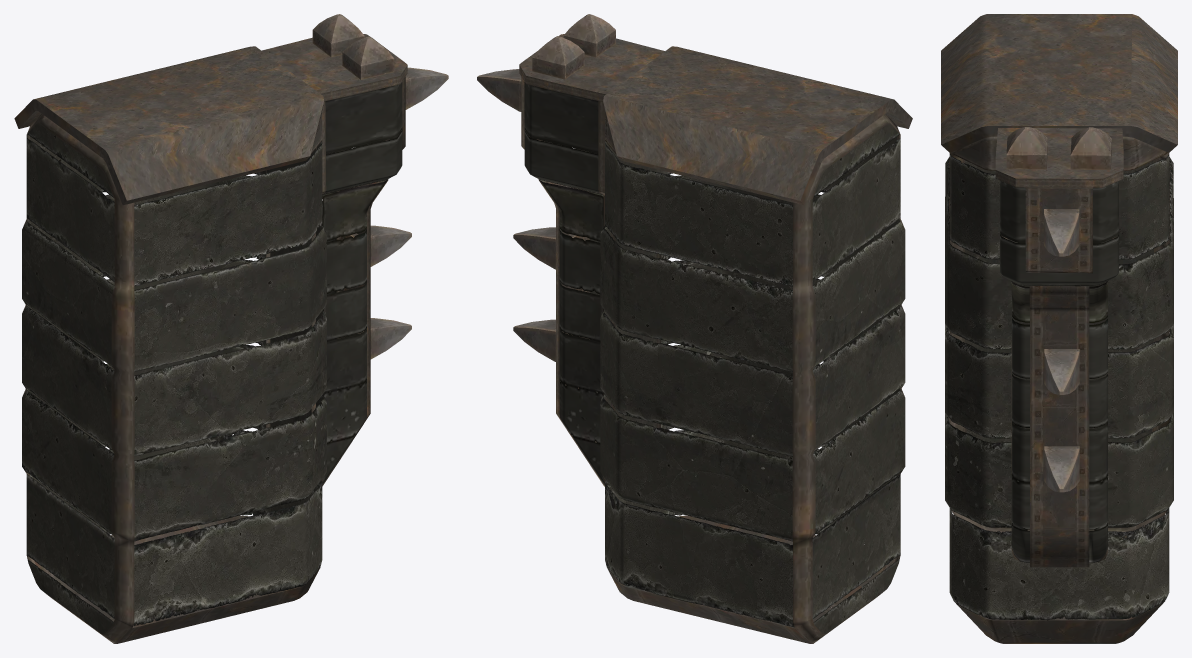
3 renders of one model, left to right at view 1: azimuth 30°, elevation 25°; view 2: azimuth 150°, elevation 25°; view 3: azimuth 270°, elevation 25°, orthographic. The views are drawn at different scales.
Parts seen in each view (by area): view 1: SM_Greathall_Top_Cap_01_LOD0; view 2: SM_Greathall_Top_Cap_01_LOD0; view 3: SM_Greathall_Top_Cap_01_LOD0.
Boxes of the visible parts, box(x1,y1,x2,y2) form: SM_Greathall_Top_Cap_01_LOD0: box(14, 14, 448, 643); SM_Greathall_Top_Cap_01_LOD0: box(477, 14, 912, 643); SM_Greathall_Top_Cap_01_LOD0: box(941, 14, 1177, 643).
Bounding box in the file's own units: 3.68 × 4.87 × 1.88.
4 materials, 4 textured.
